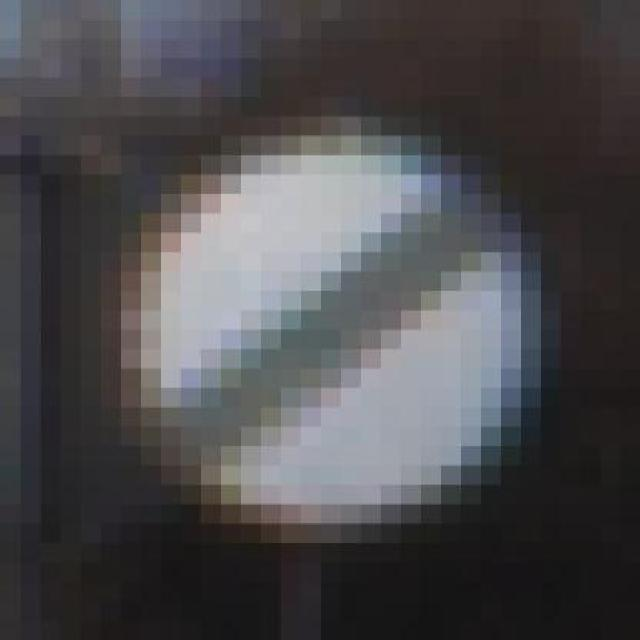End of all speed and passing limits: (100, 116, 540, 562)
